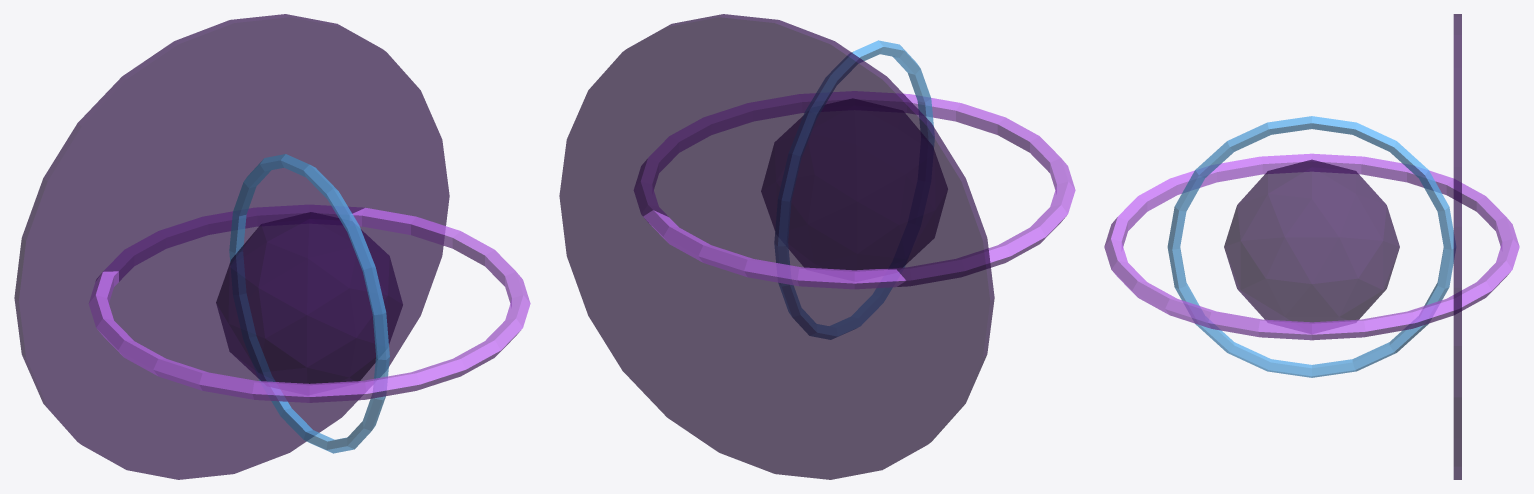
The model's file is vfx_void_rift_core.glb.
The picture shows the model from 3 angles, left to right: view 1: azimuth 30°, elevation 25°; view 2: azimuth 150°, elevation 25°; view 3: azimuth 270°, elevation 25°; orthographic projection. The views are drawn at different scales.
Visible parts, largest first — view 1: shadow, core, ring_a, ring_b; view 2: shadow, core, ring_a, ring_b; view 3: core, ring_a, ring_b, shadow.
Boxes of the visible parts, box(x1,y1,x2,y2) form: shadow: box(14, 14, 449, 479); core: box(216, 212, 402, 394); ring_a: box(88, 205, 530, 402); ring_b: box(229, 154, 389, 453); shadow: box(559, 14, 994, 479); core: box(761, 99, 947, 269); ring_a: box(634, 91, 1075, 289); ring_b: box(774, 40, 934, 339); core: box(1224, 159, 1399, 333); ring_a: box(1104, 153, 1519, 340); ring_b: box(1167, 116, 1455, 377); shadow: box(1453, 14, 1461, 479).
Size of the model in its own units: 1.7 by 1.7 by 1.51.
